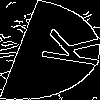K: (25, 25, 100, 69)
